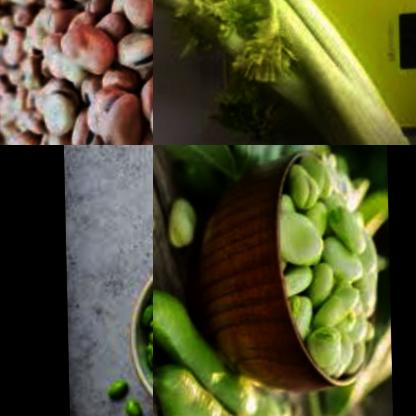beans: (279, 153, 378, 380), (0, 0, 153, 145), (153, 283, 299, 416), (170, 188, 210, 262), (104, 378, 130, 403), (123, 399, 143, 416)
celery: (153, 0, 416, 145)
